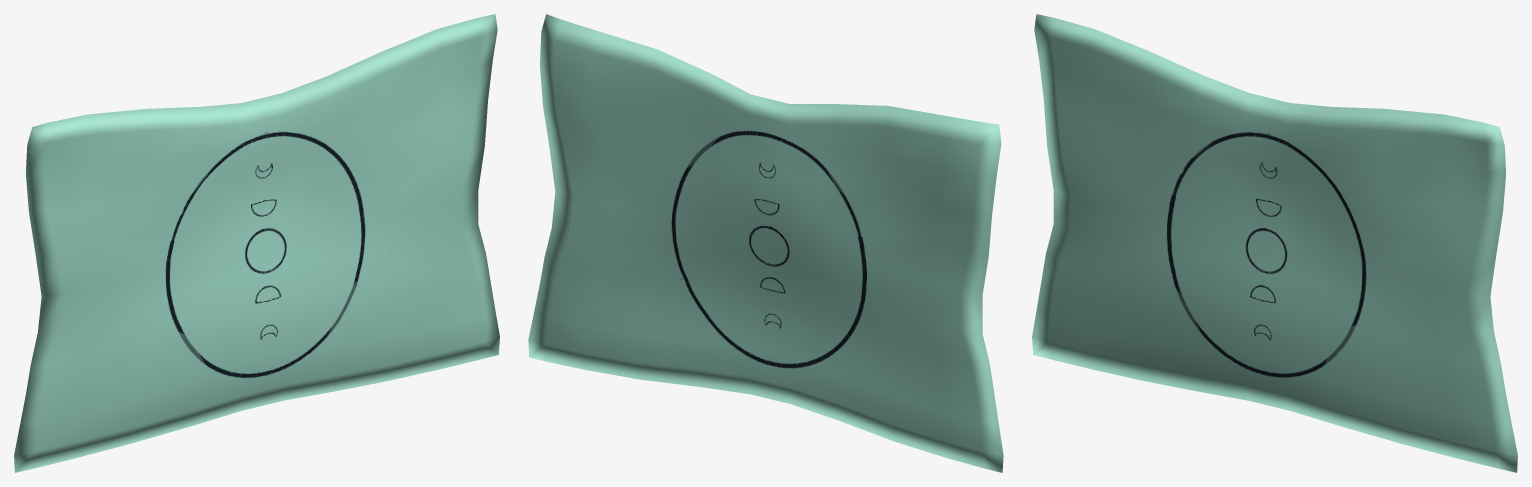
The model's file is Stage2.fbx.
3 renders of one model, left to right at view 1: azimuth 30°, elevation 25°; view 2: azimuth 150°, elevation 25°; view 3: azimuth 330°, elevation 25°, orthographic. The views are drawn at different scales.
Parts seen in each view (by area): view 1: Project_3:Mesh; view 2: Project_3:Mesh; view 3: Project_3:Mesh.
Boxes of the visible parts, x1,y1,x2,y2 form: Project_3:Mesh: (14, 14, 499, 472); Project_3:Mesh: (528, 14, 1003, 472); Project_3:Mesh: (1032, 14, 1517, 472).
Size of the model in its own units: 1.53 by 1.05 by 0.0783.
Materials: 1 (1 with a texture image).
